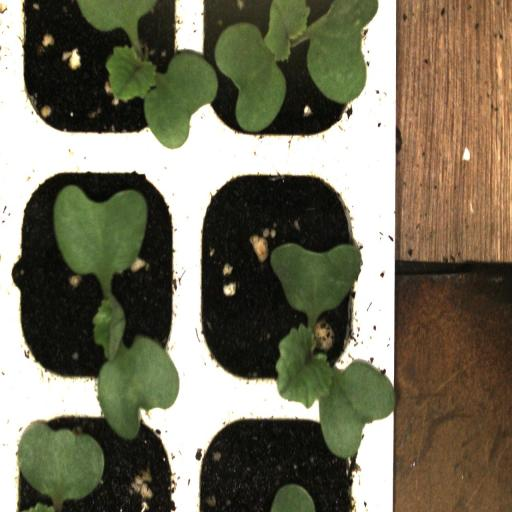seedling: (189, 161, 373, 400), (10, 152, 188, 394), (192, 0, 370, 157), (12, 0, 190, 156)
